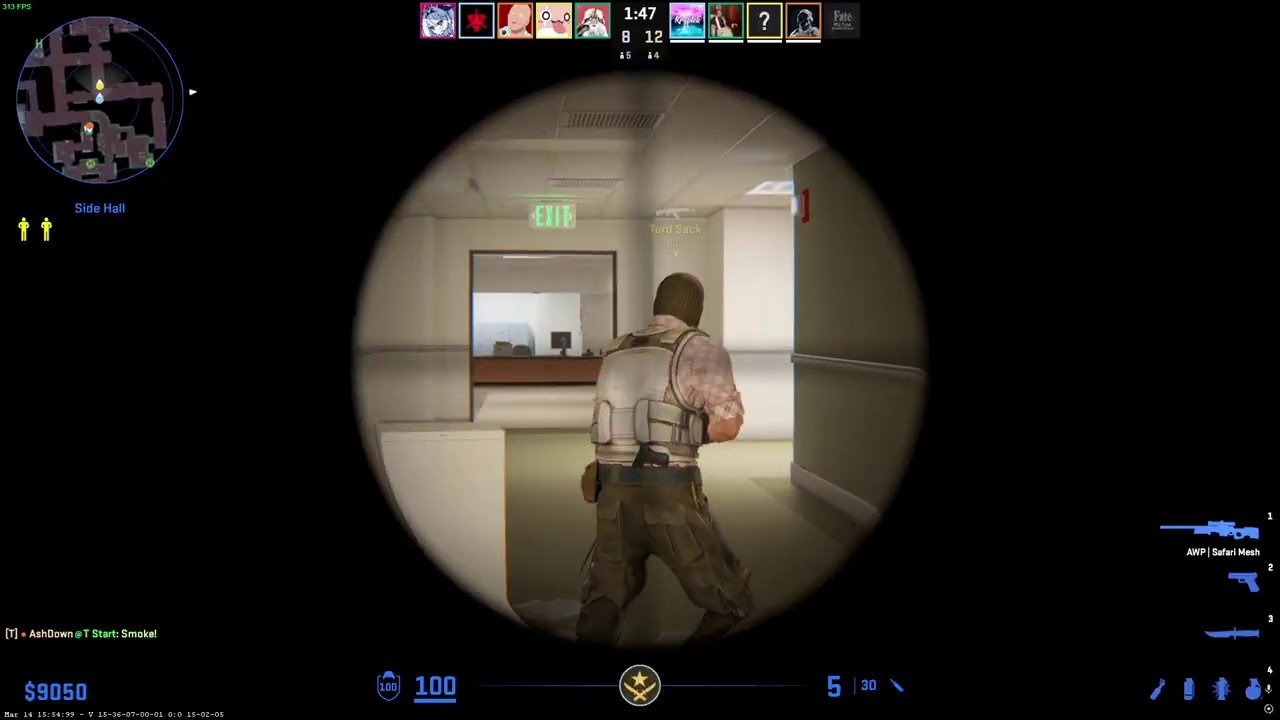Terrorist: (580, 272, 748, 651)
